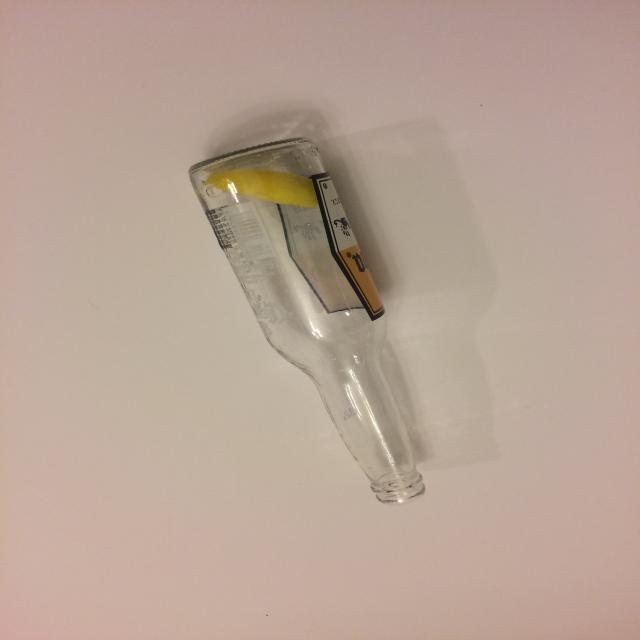glass: (188, 138, 432, 503)
